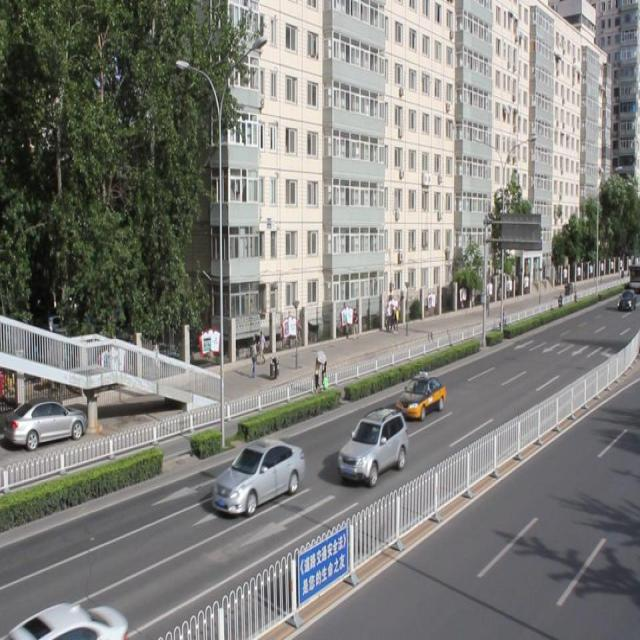car: (211, 433, 304, 518), (336, 406, 407, 483), (395, 371, 445, 422)
